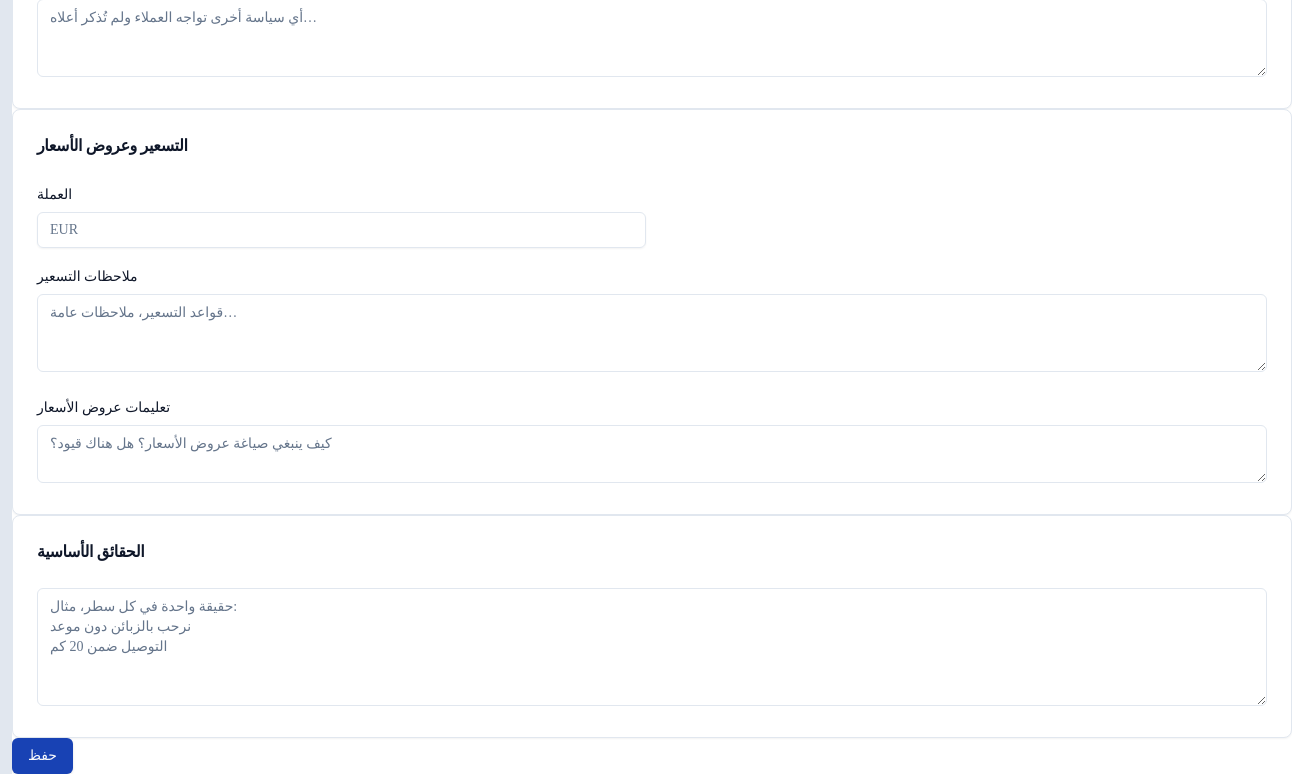
Business DNA form: a save conflicting with a newer change › is localized (ar)
(page scrolled)
Click the button "حفظ" at (42, 756), box [12, 738, 73, 773]
(page scrolled)
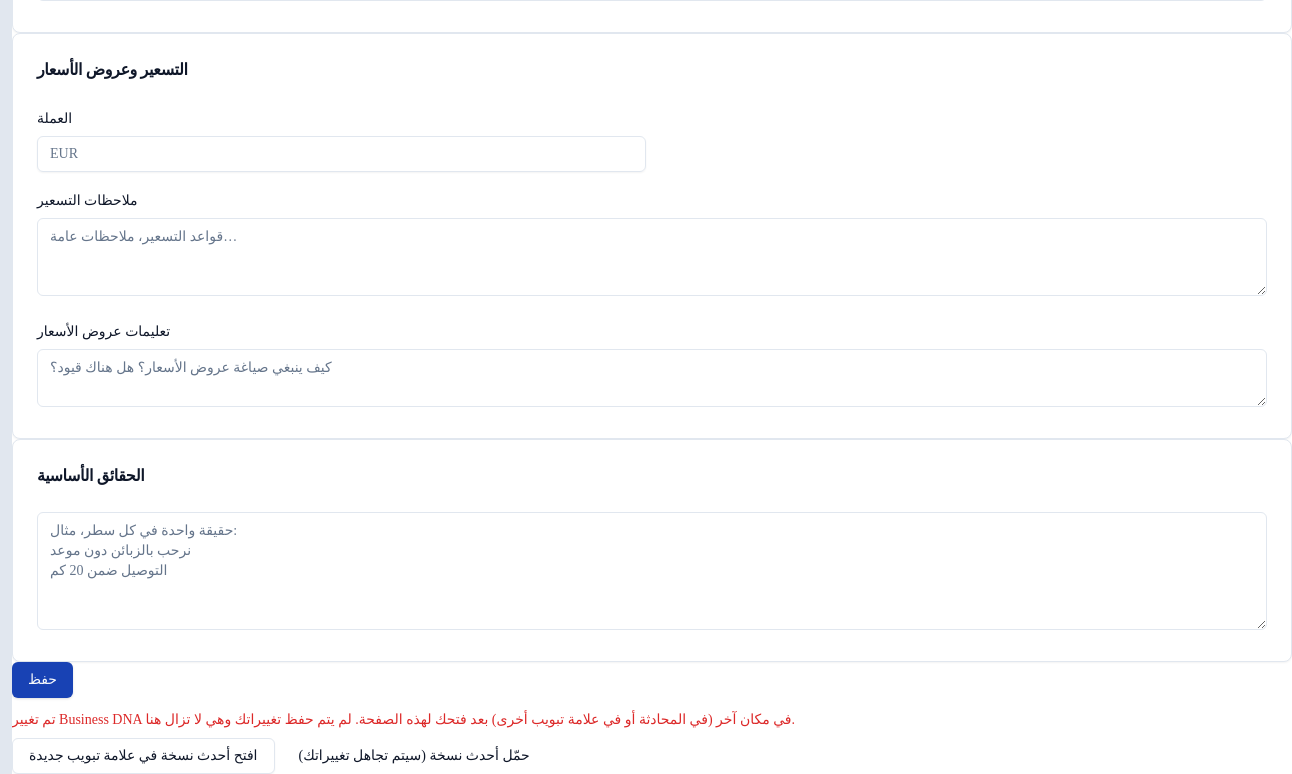
Check: the message shows "تم تغيير Business DNA في مكان آخر (في المحادثة أو في علامة تبويب أخرى) بعد فتحك لهذه الصفحة. لم يتم حفظ تغييراتك وهي لا تزال هنا.", box [12, 712, 795, 727]
Check: the button "حمّل أحدث نسخة (سيتم تجاهل تغييراتك)" is shown, box [282, 738, 546, 773]
